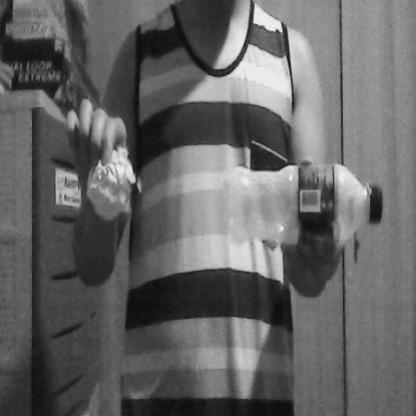Plastic Bottle: (213, 153, 389, 257)
